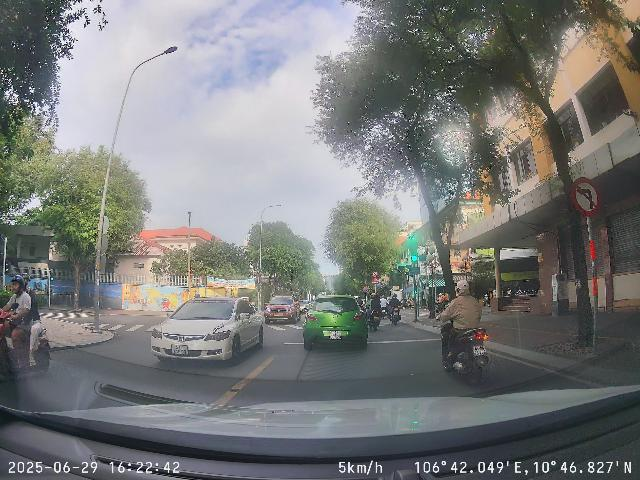123a-cam-re-trai: (571, 177, 601, 217)
